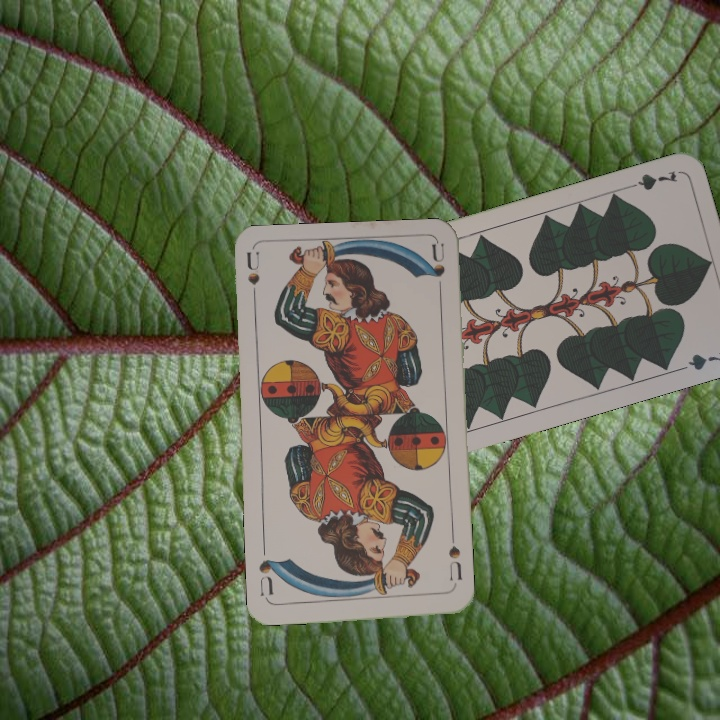G7: (621, 167, 680, 193)
SU: (243, 250, 262, 309), (445, 542, 465, 592)
